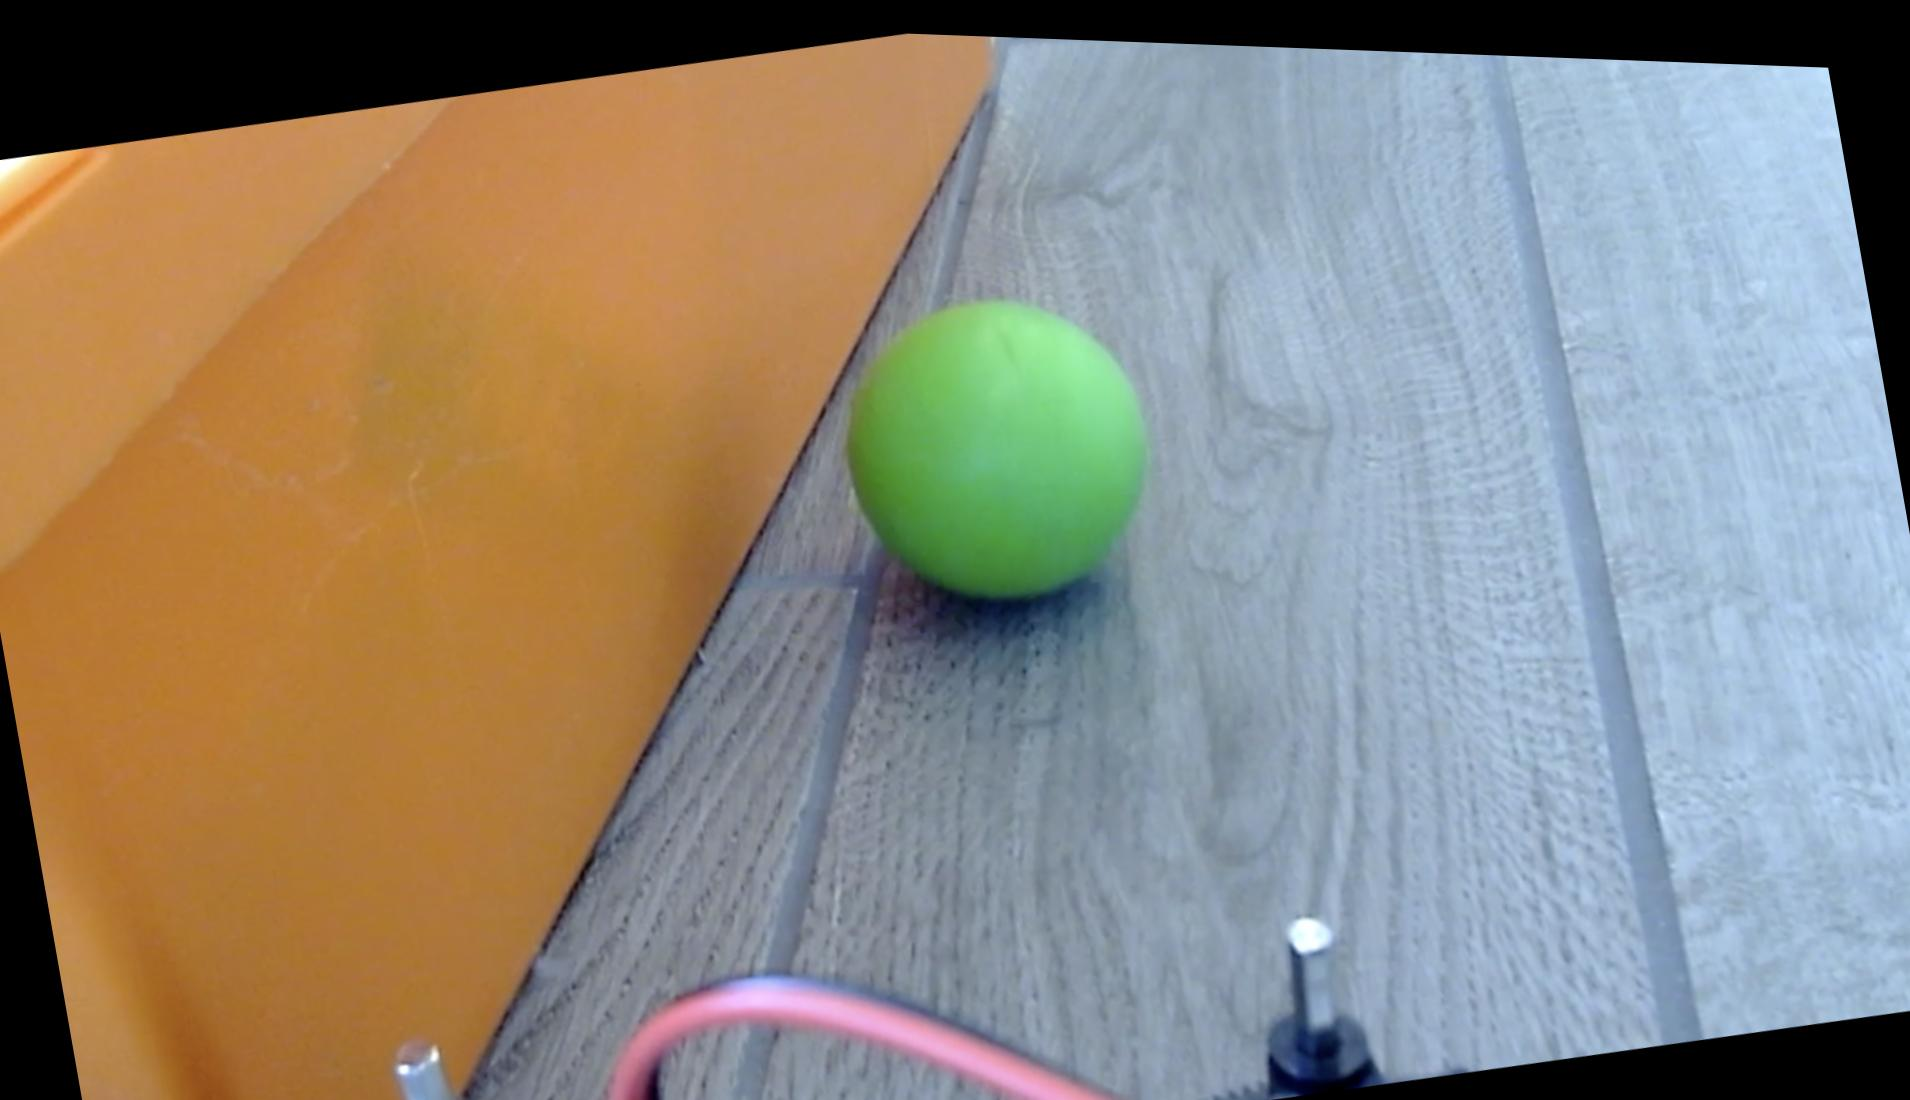greenball: (820, 261, 1174, 624)
